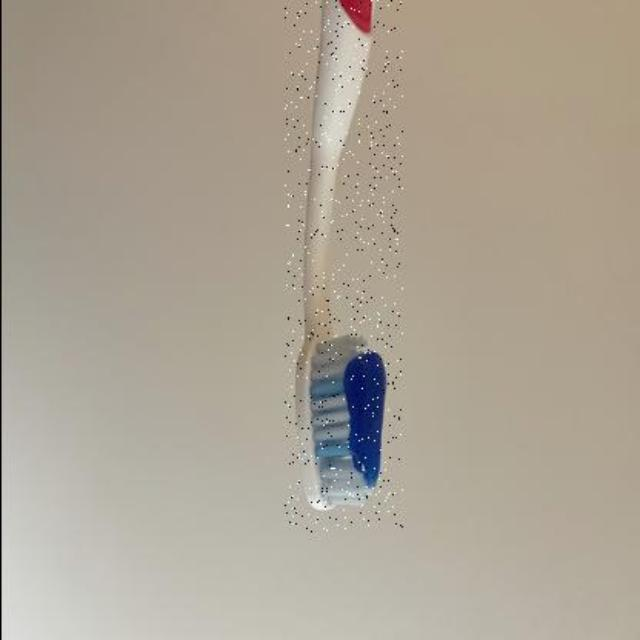toothbrush: (283, 0, 401, 532)
